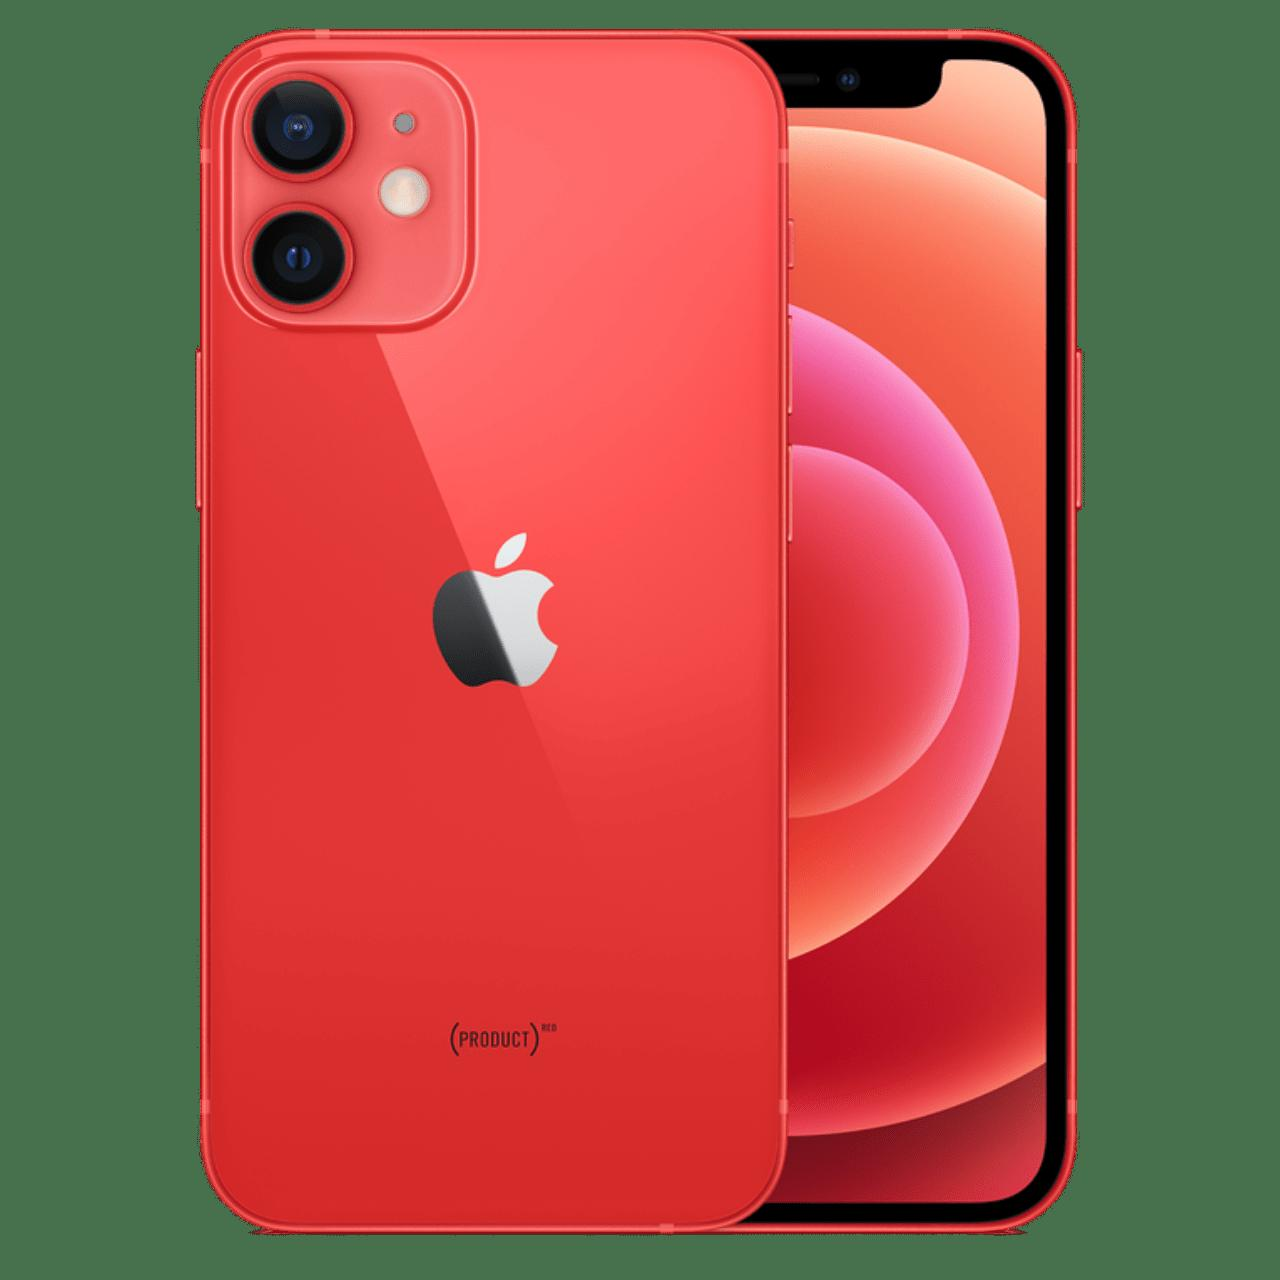-iphone12: (168, 18, 1115, 1238)
